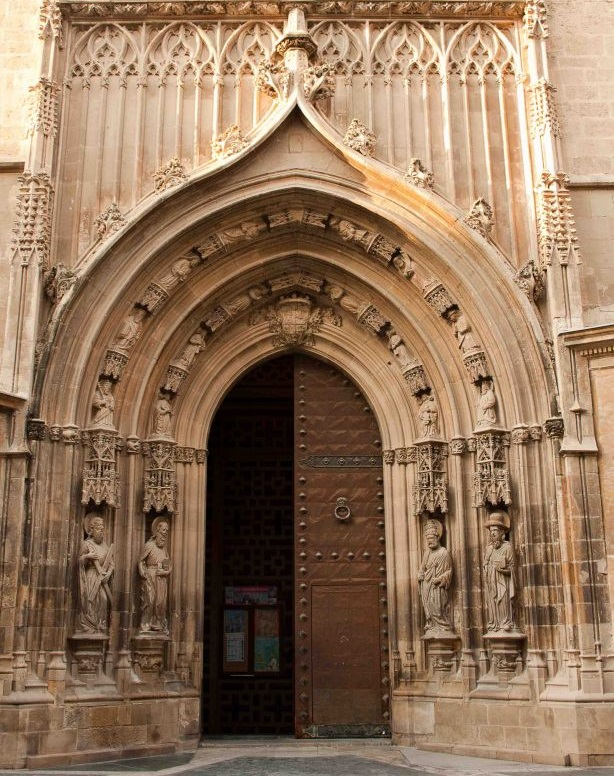arco-apuntado: (69, 182, 527, 427)
arco-conopial: (150, 91, 447, 199)
